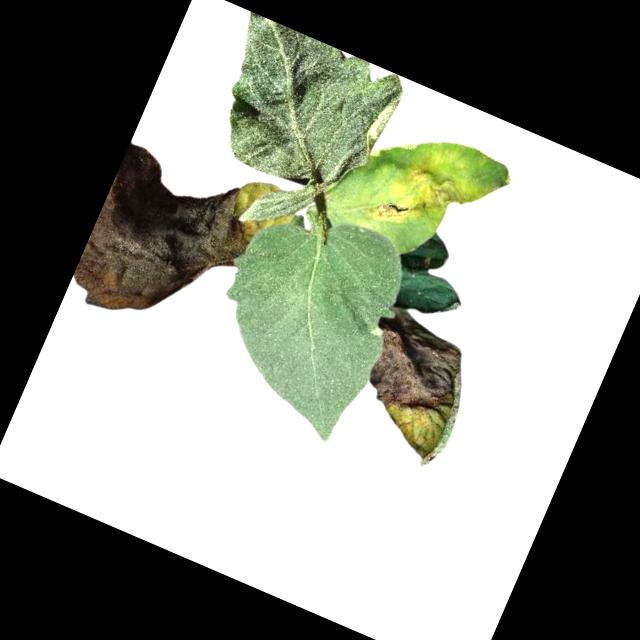Late_blight: (65, 139, 269, 355), (334, 301, 491, 473), (367, 143, 477, 248)
